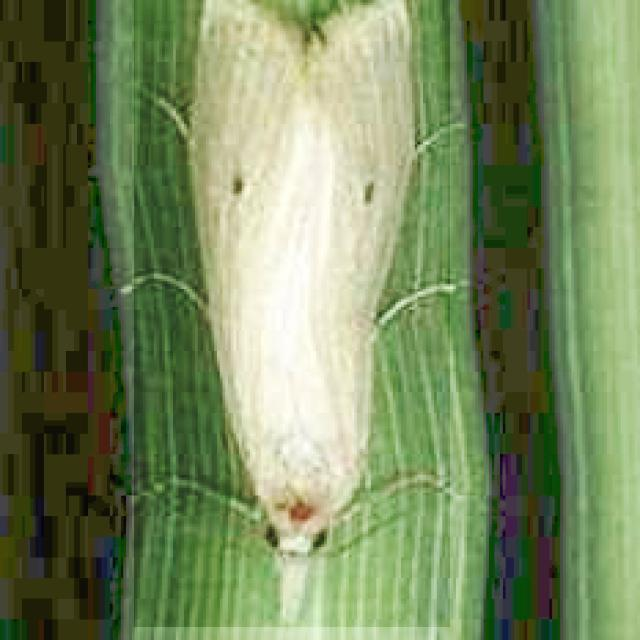stem-borer: (135, 0, 451, 627)
